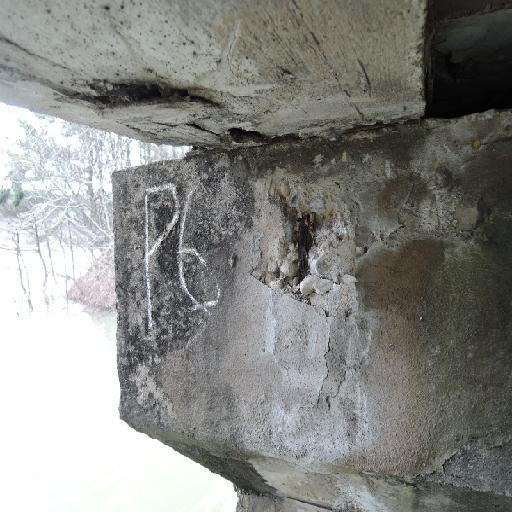exposed_rebar: (297, 214, 315, 274)
spalling: (252, 169, 374, 316)
